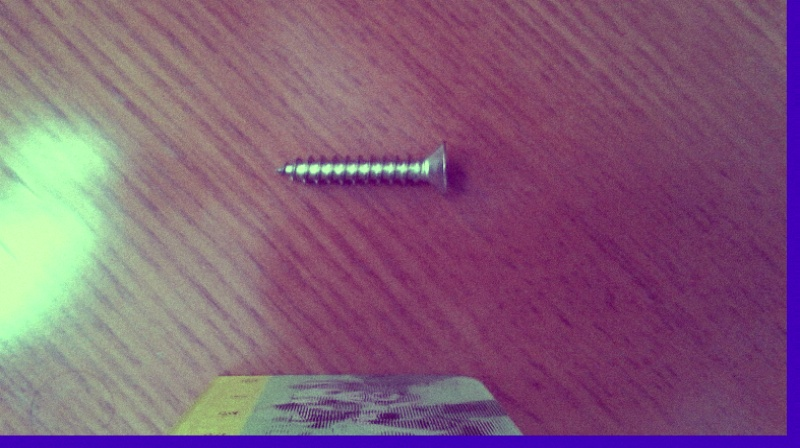S001: (268, 138, 453, 199)
